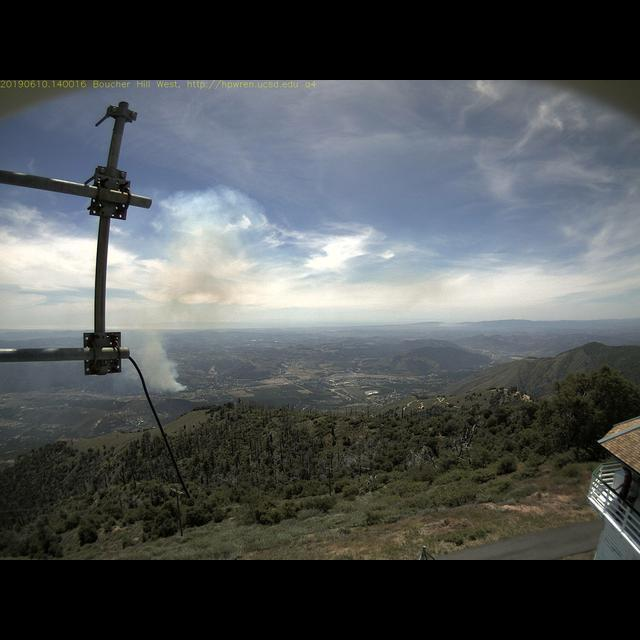Smoke: (126, 230, 244, 392)
